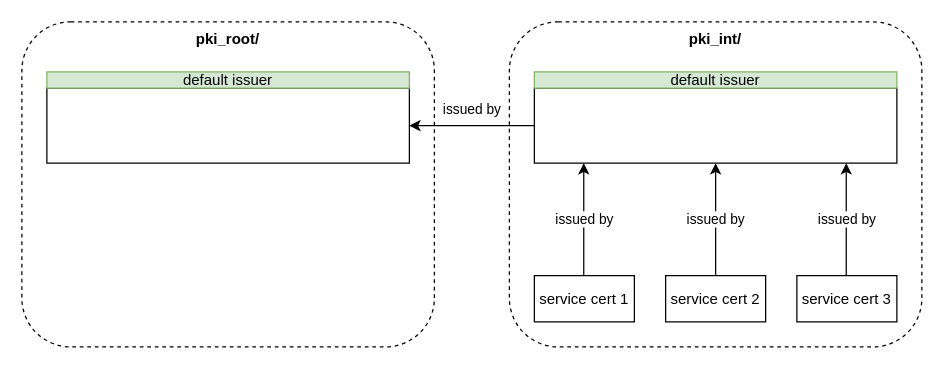
This 944x369 diagram has some shape labels left out. Here are the shapes that lost their labels. From the top down, the centre of each, then its label:
[227,125]: ExampleCorpRoot
[715,125]: ExampleCorpIntermediate
